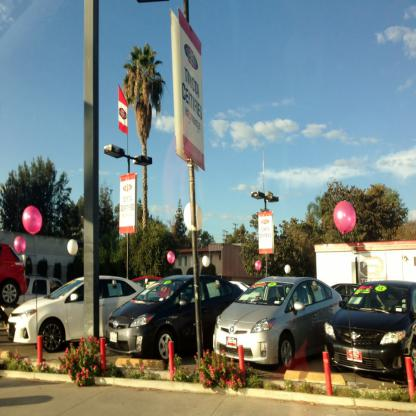Car: (0, 241, 416, 382)
